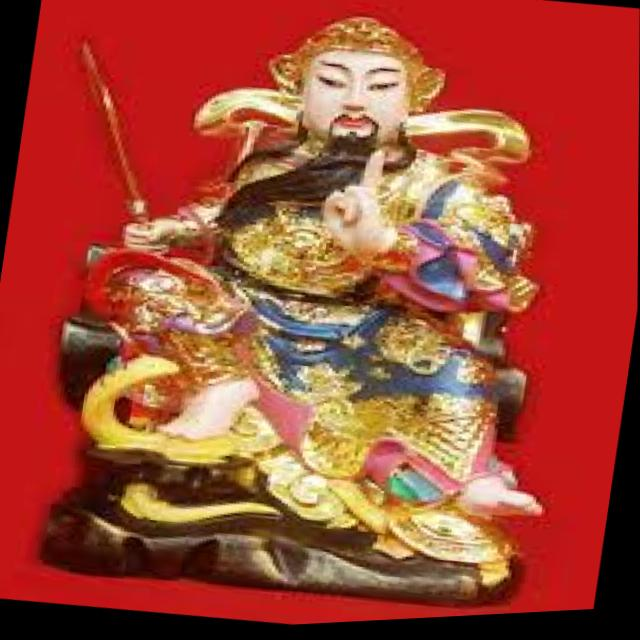Xuan wu: (73, 0, 565, 559)
